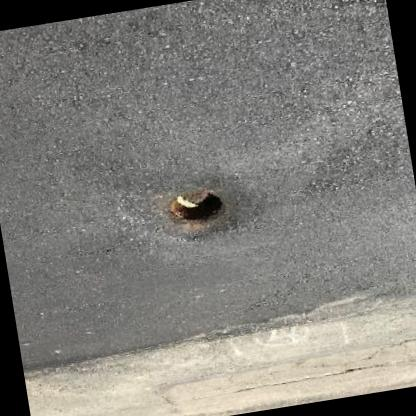pothole: (162, 184, 232, 230)
